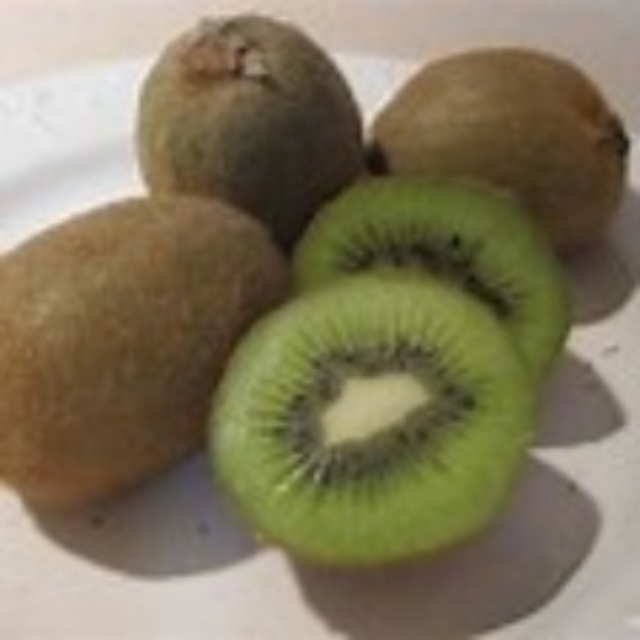kiwi: (232, 174, 549, 564), (10, 193, 283, 516), (128, 13, 380, 250), (369, 34, 621, 240)
